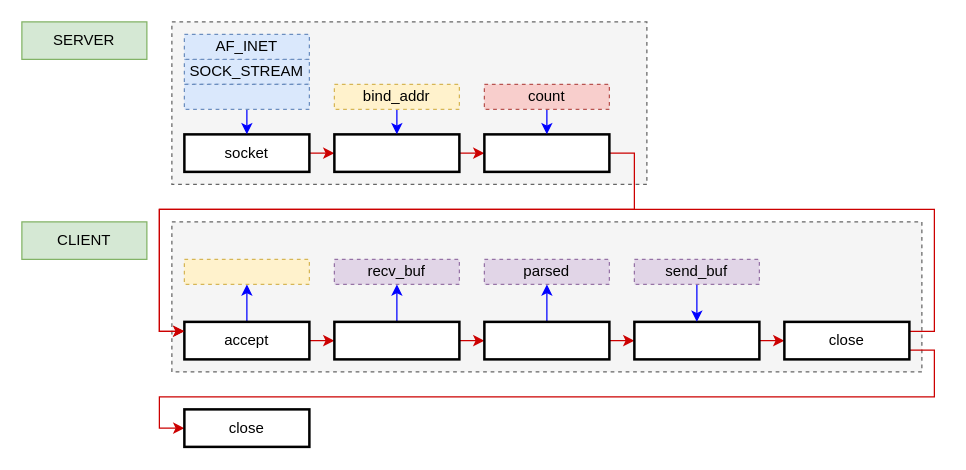
Image size: 966x470. Some labels were removed from this diagram. Each missing label, with the box of its shape:
bind: (332, 132, 460, 172)
client_addr: (183, 258, 309, 284)
IPPROTO_TCP: (183, 83, 309, 109)
listen: (482, 132, 610, 172)
parse: (482, 320, 610, 360)
recv: (332, 320, 460, 360)
send: (632, 320, 760, 360)
